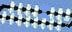gap: (33, 3, 56, 19)
